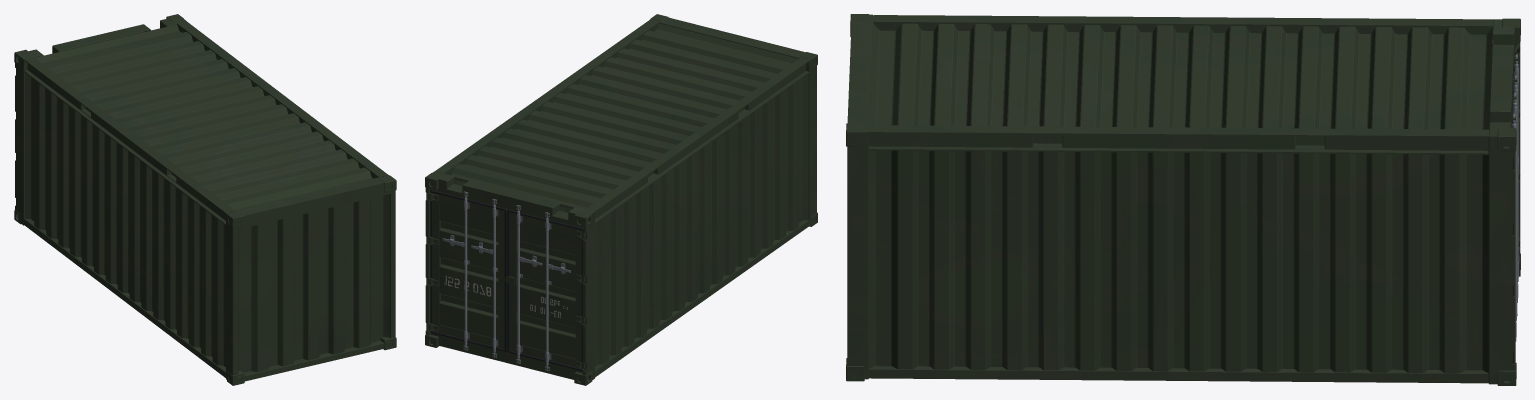
The model's file is container.obj.
The picture shows the model from 3 angles, left to right: view 1: azimuth 30°, elevation 25°; view 2: azimuth 150°, elevation 25°; view 3: azimuth 270°, elevation 25°; orthographic projection. The views are drawn at different scales.
Parts seen in each view (by area): view 1: 12281_Container_v2_L2; view 2: 12281_Container_v2_L2; view 3: 12281_Container_v2_L2.
Part boxes in pixels (x1,y1,x2,y2): 12281_Container_v2_L2: (14, 14, 396, 385); 12281_Container_v2_L2: (425, 14, 817, 385); 12281_Container_v2_L2: (846, 14, 1520, 385).
Size of the model in its own units: 2.93 by 2.78 by 6.82.
2 materials, 2 textured.
